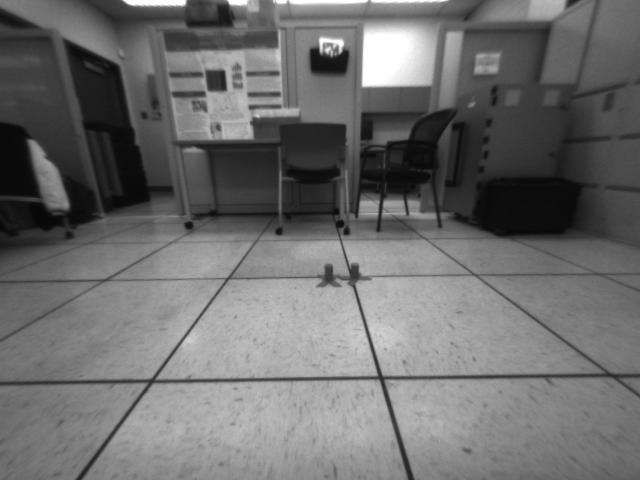X: (340, 260, 374, 287), (313, 263, 340, 289)
